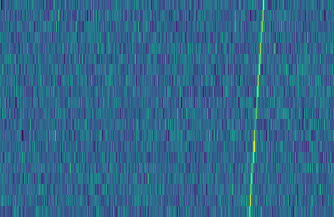signal: (246, 0, 270, 217)
